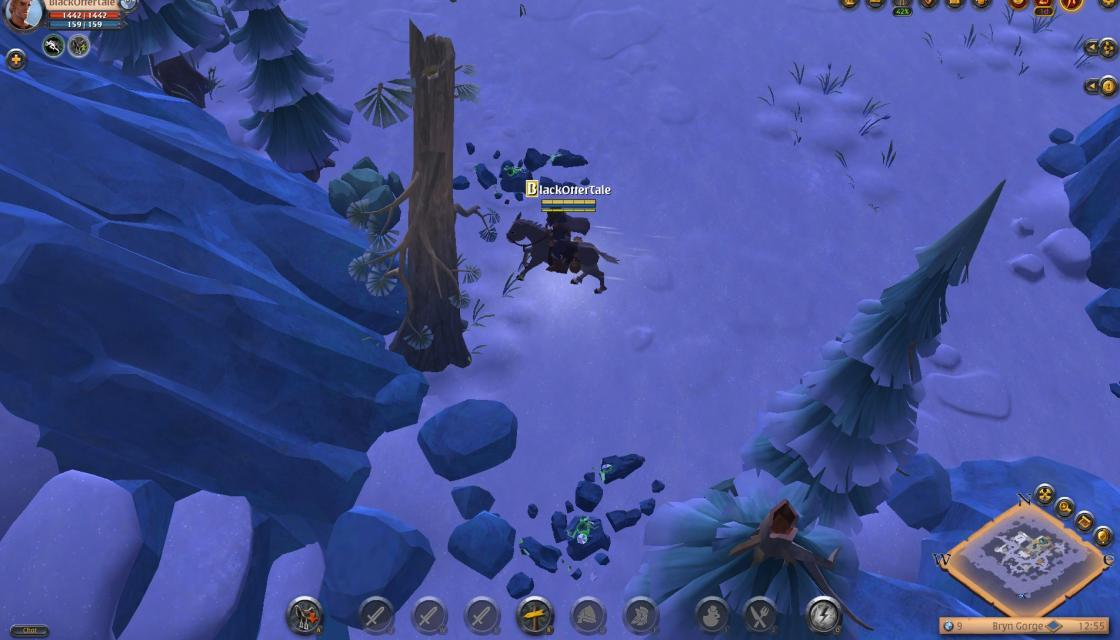sandstone: (324, 155, 407, 233)
